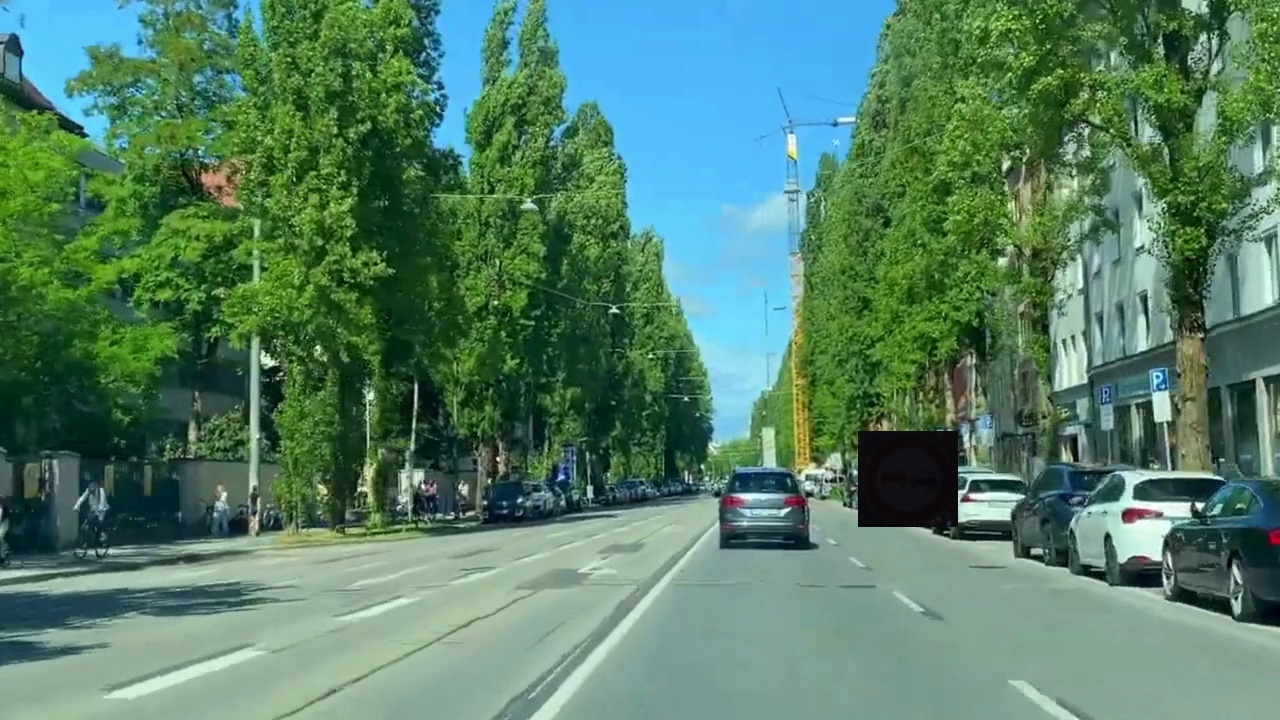No passing: (858, 431, 958, 527)
